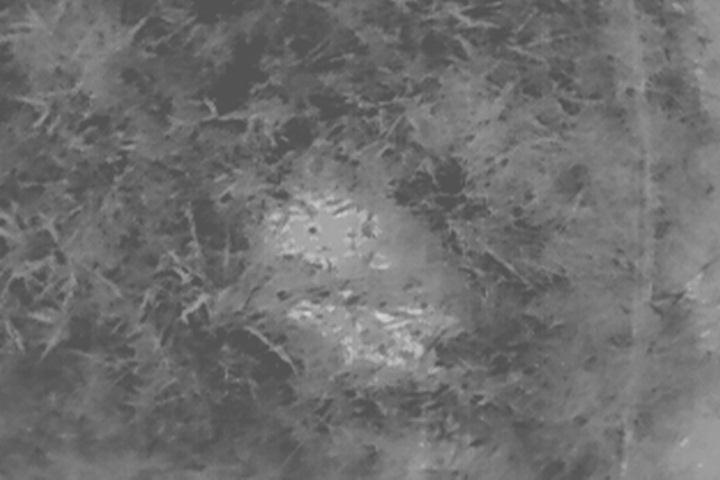landmine: (278, 199, 366, 266)
